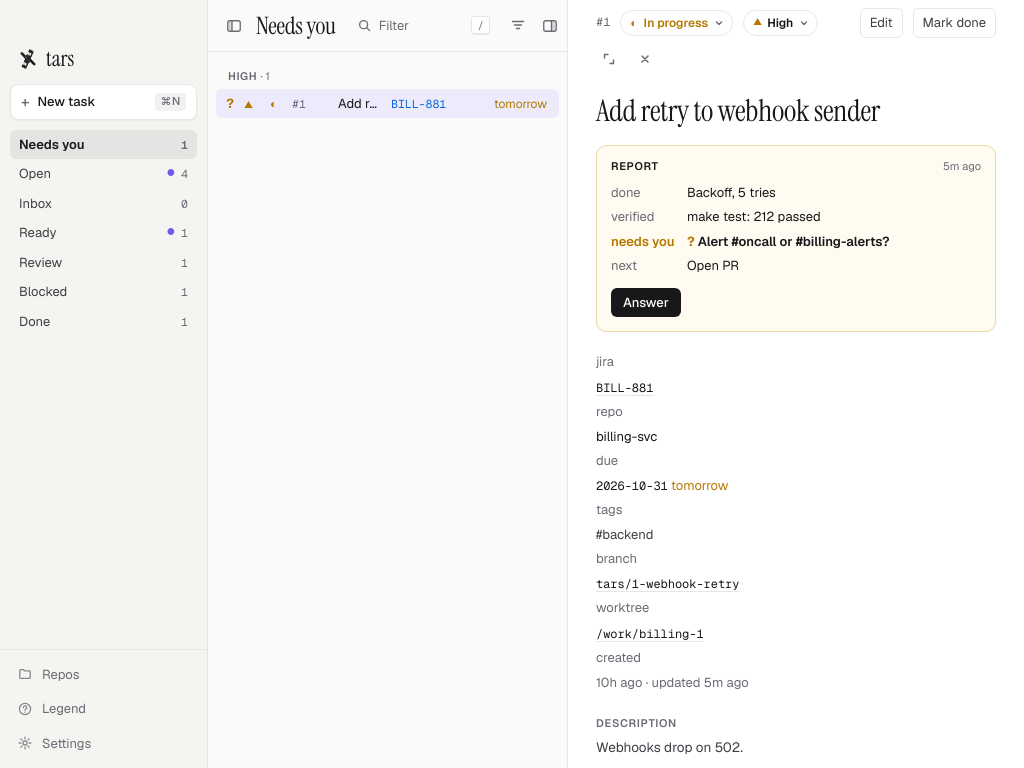
Test: actions › answers the open question through the CLI
Expected: the navigation bar named "Views" is shown, 0,0 -> 208,767
Expected: the text "Backoff, 5 tries" is shown, 687,184 -> 776,201
Type keys "a"
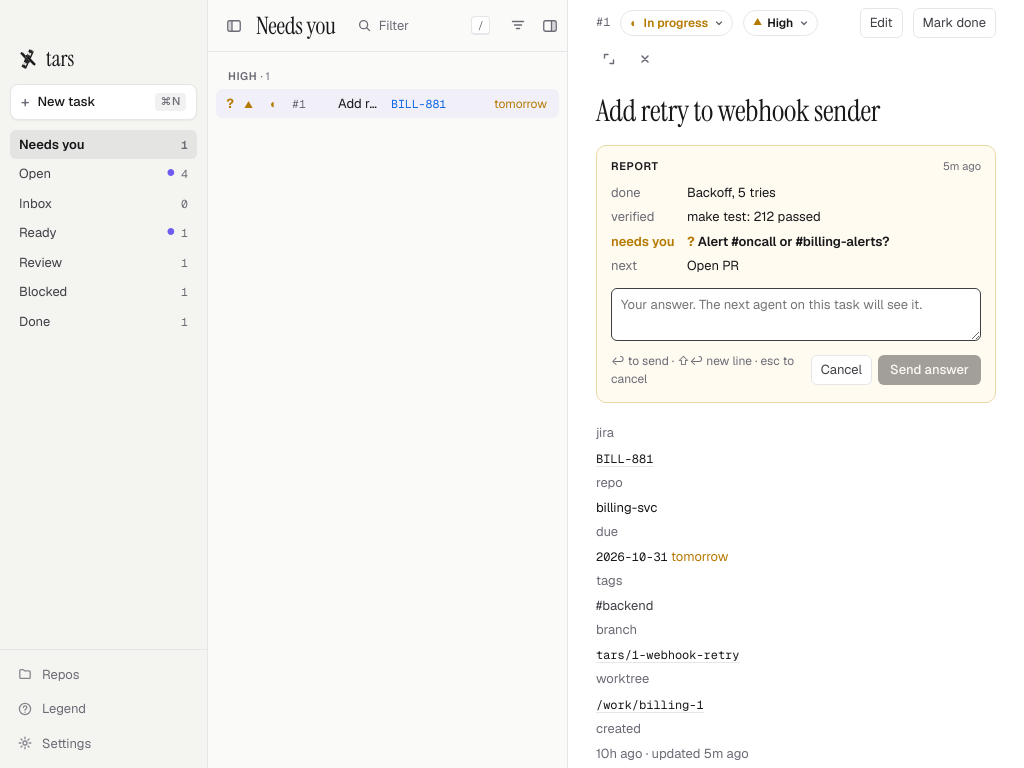
In the text box labelled "Your answer": [796, 314] box 611,288 -> 981,341, type "billing-alerts"
Then press Enter
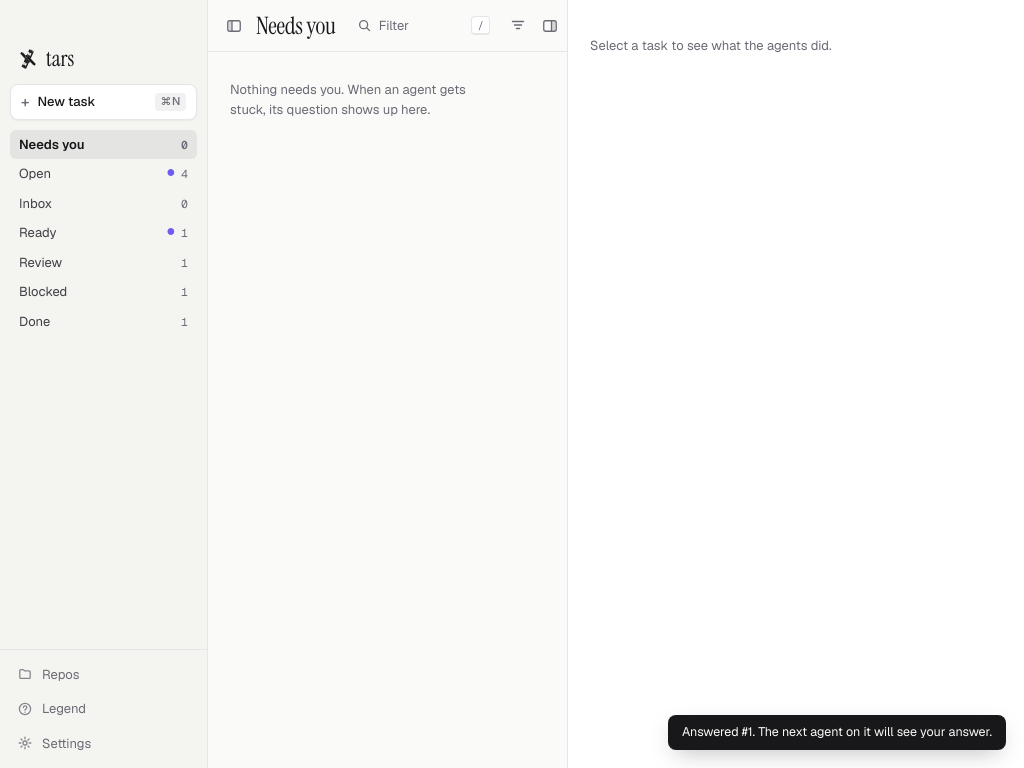
Now the message shows "Answered #1", box 682,723 -> 992,740
Now the text "Nothing needs you" is shown, box 230,81 -> 466,118
Type keys "2"
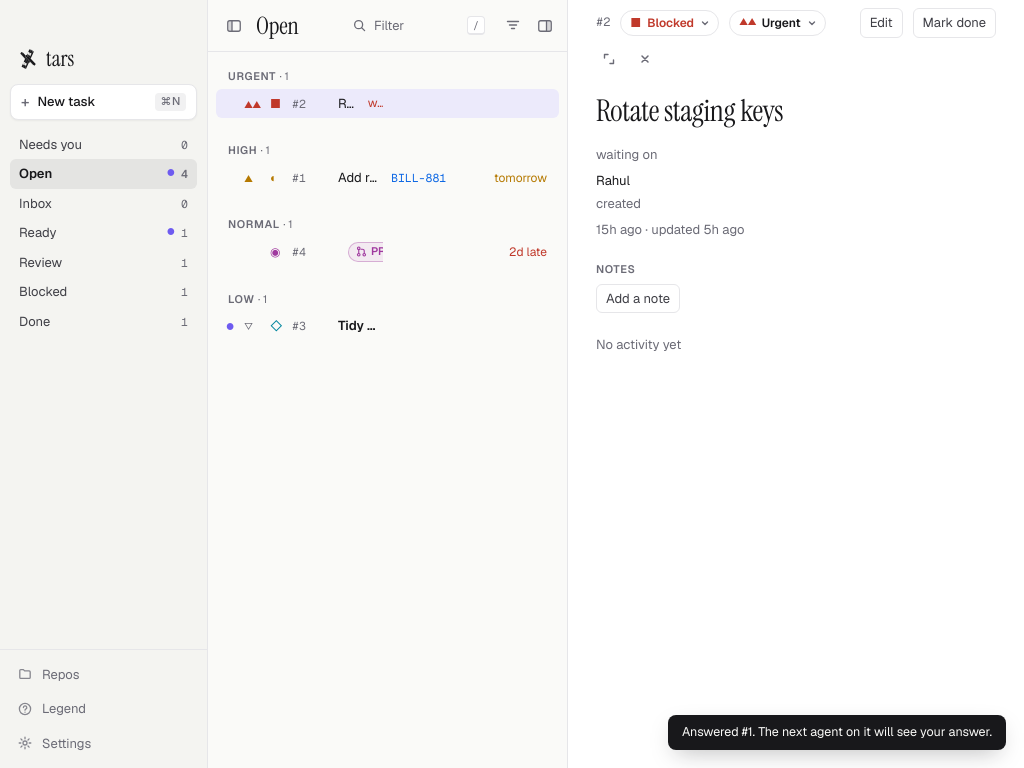
Click the option with test id "row-1": [396, 177] box 244,168 -> 547,186
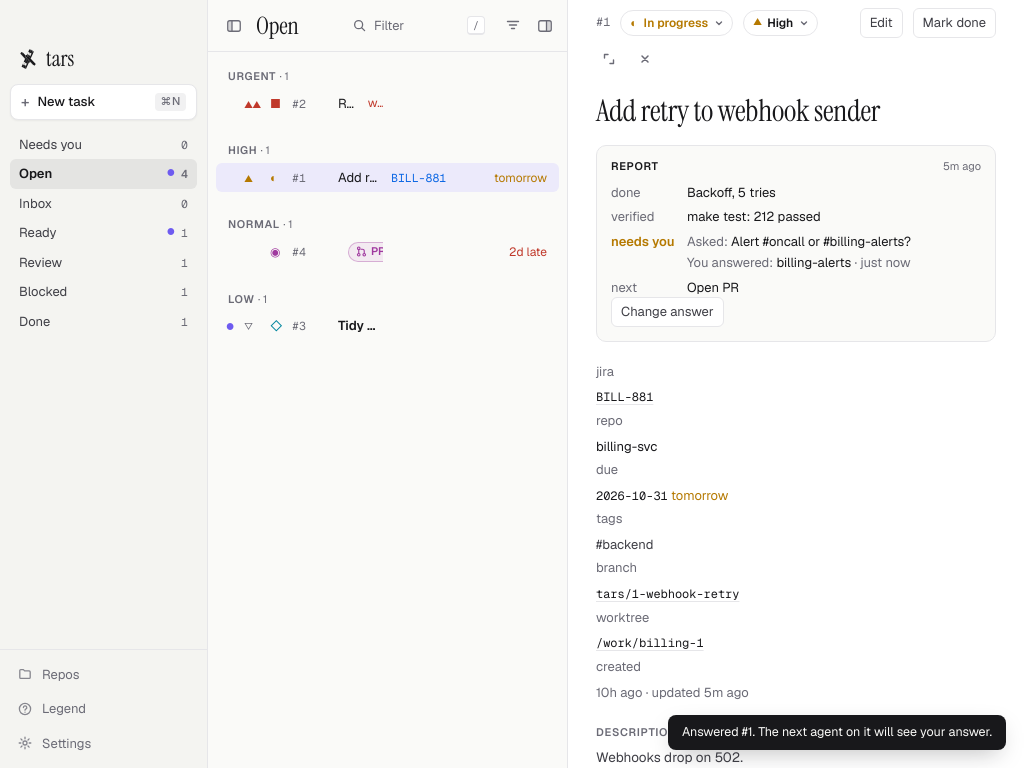
Now the text "Alert #oncall or #billing-alerts?" is shown, box 731,233 -> 911,250
Now the text "billing-alerts" is shown, box 776,254 -> 851,271
Note: The answer can be changed: the box starts with the current one.
Click the button "Change answer": [667, 312] box 611,297 -> 724,327
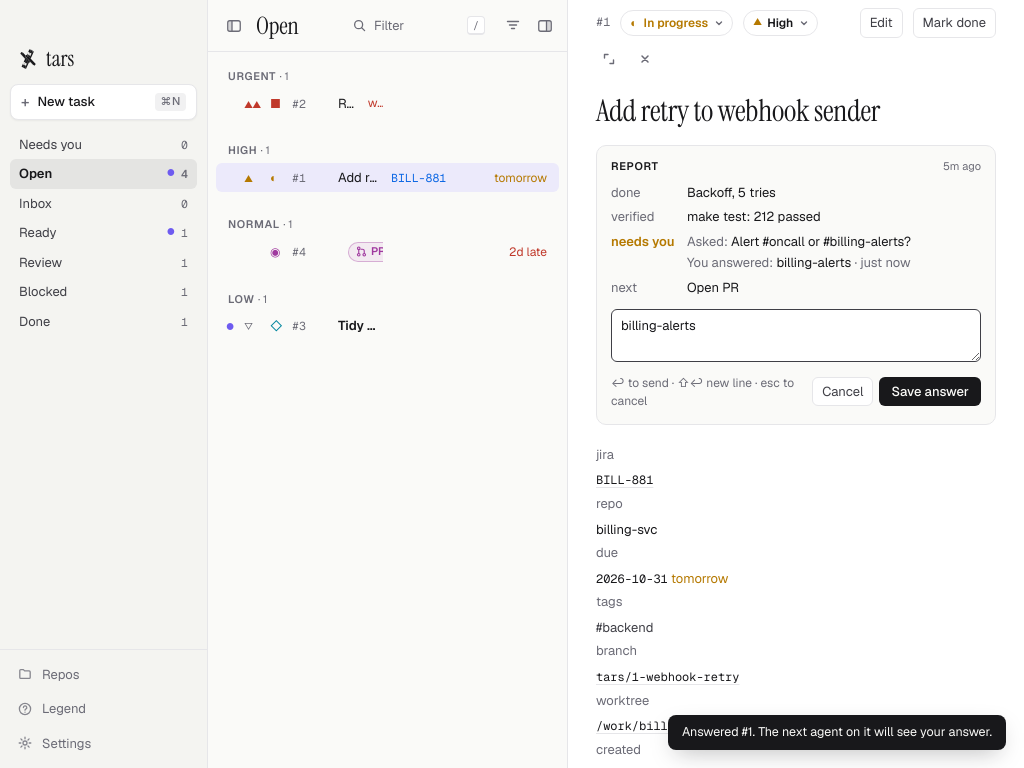
Now the text box named "Your answer" holds "billing-alerts"
Replace the text in the text box named "Your answer" with "billing-oncall": [796, 336] box 611,309 -> 981,362
Then press Enter
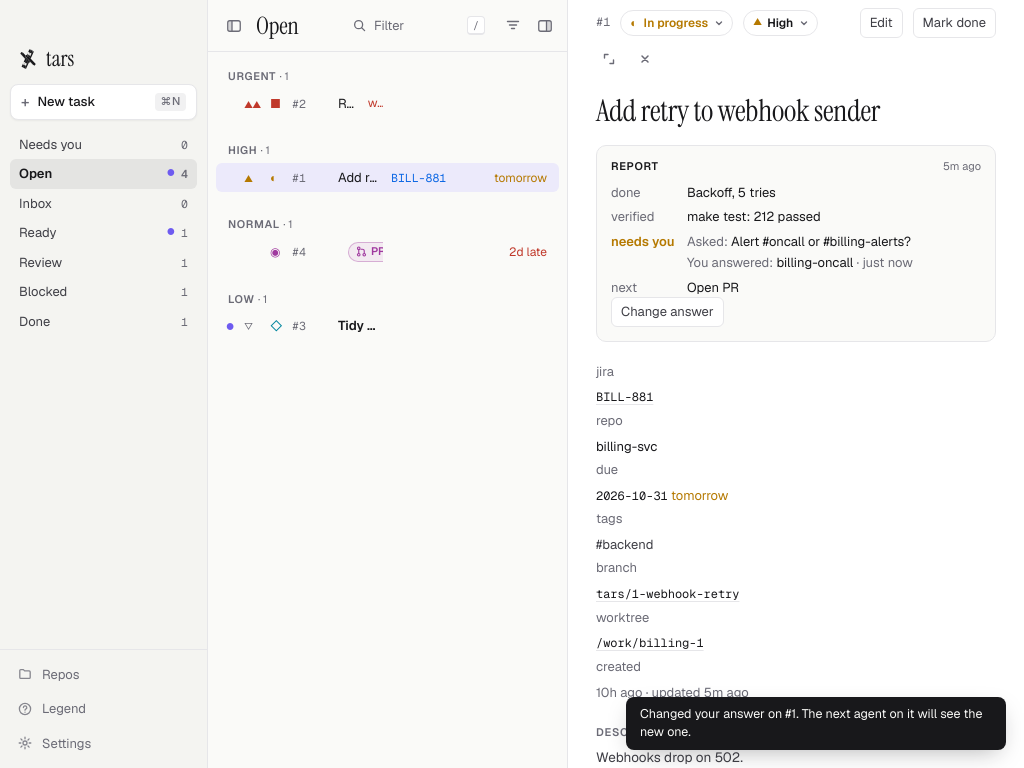
Now the text "Changed your answer on #1. The next agent on it will see the new one." is shown, box 626,696 -> 1006,750
Now the text "billing-oncall" is shown, box 776,254 -> 853,271
